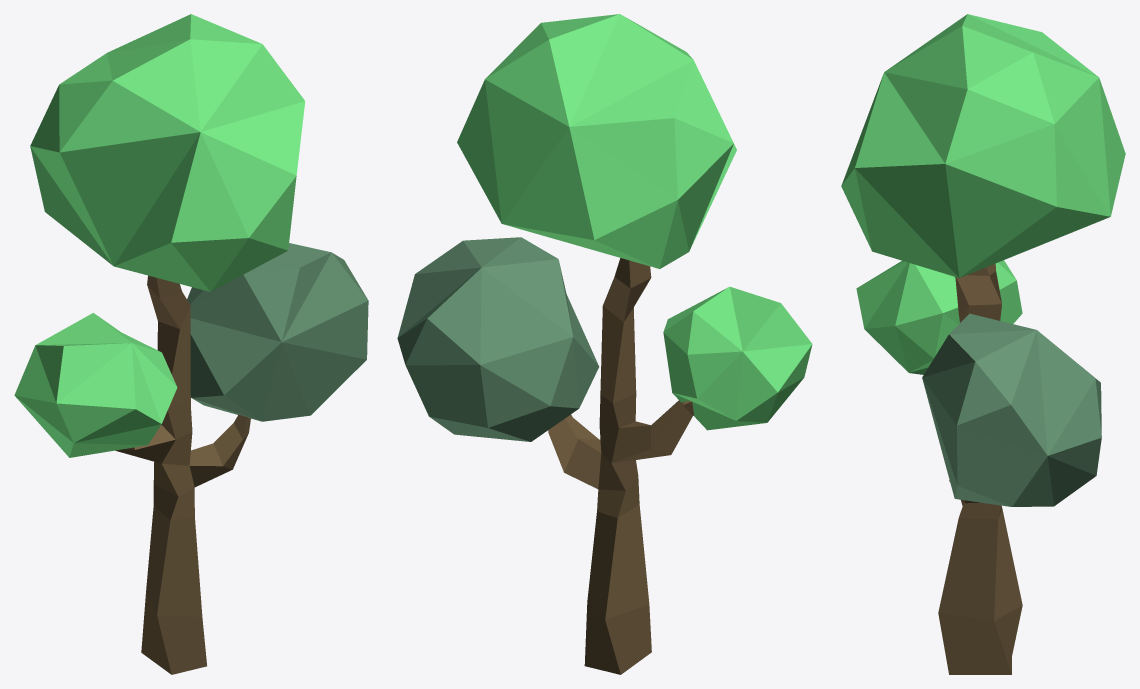
File: TREE1.fbx
The picture shows the model from 3 angles, left to right: view 1: azimuth 30°, elevation 25°; view 2: azimuth 150°, elevation 25°; view 3: azimuth 270°, elevation 25°; orthographic projection. The views are drawn at different scales.
Parts seen in each view (by area): view 1: TREE1; view 2: TREE1; view 3: TREE1.
Boxes of the visible parts, <box> form: TREE1: <box>14,14,368,674</box>; TREE1: <box>397,14,812,674</box>; TREE1: <box>841,14,1125,674</box>.
Size of the model in its own units: 1988 by 3462 by 1387.
